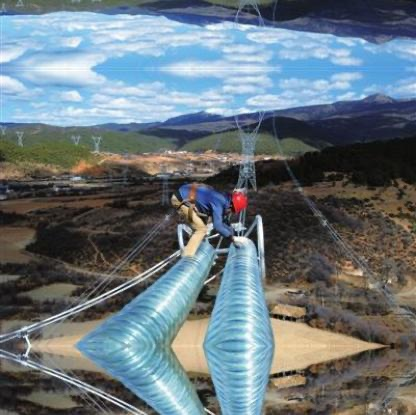Safety Helmet: (224, 188, 253, 216)
